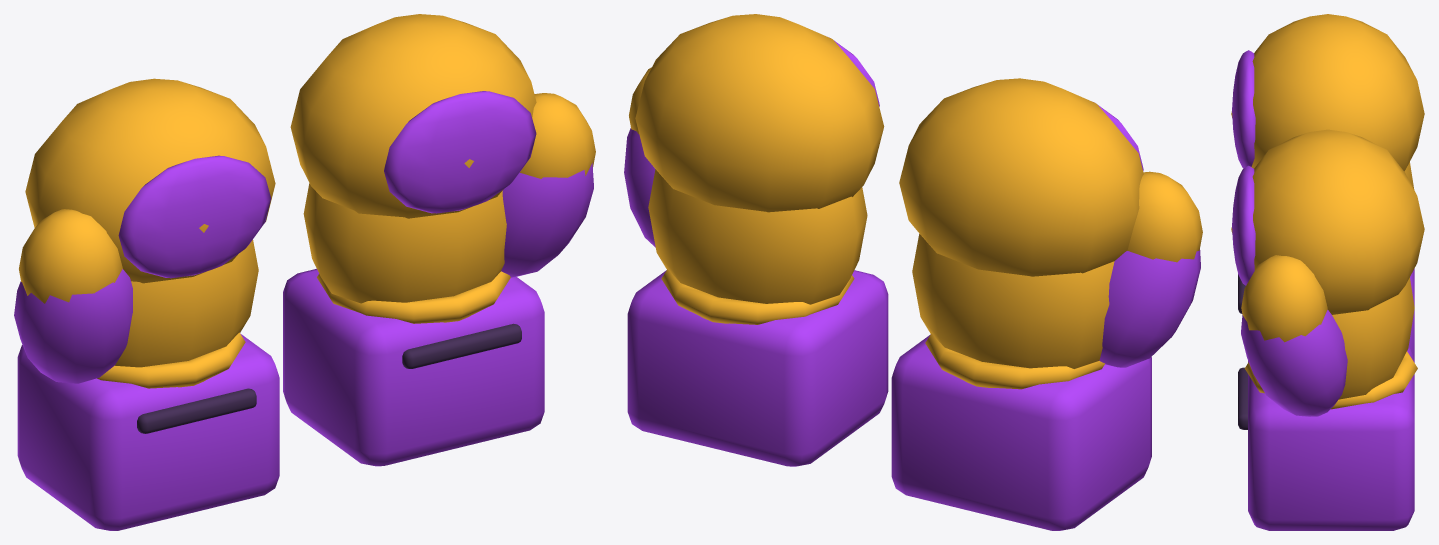
The model's file is Gloves.glb.
3 views of the same model, side by side, from view 1: azimuth 30°, elevation 25°; view 2: azimuth 150°, elevation 25°; view 3: azimuth 270°, elevation 25° (orthographic). The views are drawn at different scales.
Parts seen in each view (by area): view 1: Right_Purple_Cuff, Left_Purple_Cuff, Right_Gold_Knuckles, Left_Gold_Knuckles, Right_Gold_Palm, Left_Purple_StrikePad, Right_Purple_StrikePad, Left_Gold_Palm, Left_Purple_Thumb, Left_Gold_ThumbTip, Right_Purple_Thumb, Right_Gold_ThumbTip (+4 smaller); view 2: Right_Gold_Knuckles, Left_Gold_Knuckles, Right_Purple_Cuff, Left_Purple_Cuff, Right_Gold_Palm, Left_Gold_Palm, Left_Purple_Thumb, Left_Gold_ThumbTip, Right_Gold_Cuff_Rim, Left_Gold_Cuff_Rim, Right_Purple_Thumb; view 3: Right_Gold_Knuckles, Right_Purple_Cuff, Left_Gold_Knuckles, Right_Purple_Thumb, Right_Gold_Palm, Right_Gold_ThumbTip, Left_Purple_StrikePad, Right_Purple_StrikePad, Right_Gold_Cuff_Rim, Right_Dark_Wrist_Seam, Left_Purple_Cuff.
Part boxes in pixels (x1,y1,x2,y2): Right_Purple_Cuff: (283, 268, 544, 466); Left_Purple_Cuff: (17, 333, 279, 530); Right_Gold_Knuckles: (290, 14, 536, 218); Left_Gold_Knuckles: (25, 78, 275, 283); Right_Gold_Palm: (303, 183, 506, 303); Left_Purple_StrikePad: (118, 155, 271, 278); Right_Purple_StrikePad: (384, 91, 536, 213); Left_Gold_Palm: (115, 240, 258, 367); Left_Purple_Thumb: (14, 269, 132, 383); Left_Gold_ThumbTip: (19, 209, 122, 303); Right_Purple_Thumb: (501, 163, 593, 277); Right_Gold_ThumbTip: (520, 93, 595, 178); Right_Gold_Knuckles: (635, 14, 884, 212); Left_Gold_Knuckles: (899, 78, 1143, 276); Right_Purple_Cuff: (627, 270, 888, 466); Left_Purple_Cuff: (891, 334, 1151, 530); Right_Gold_Palm: (648, 169, 867, 304); Left_Gold_Palm: (912, 234, 1114, 368); Left_Purple_Thumb: (1099, 249, 1200, 367); Left_Gold_ThumbTip: (1127, 171, 1202, 262); Right_Gold_Cuff_Rim: (661, 269, 854, 324); Left_Gold_Cuff_Rim: (925, 333, 1104, 389); Right_Purple_Thumb: (624, 128, 655, 247); Right_Gold_Knuckles: (1231, 129, 1424, 314); Right_Purple_Cuff: (1248, 346, 1414, 530); Left_Gold_Knuckles: (1231, 14, 1424, 171); Right_Purple_Thumb: (1241, 310, 1347, 416); Right_Gold_Palm: (1332, 277, 1414, 399); Right_Gold_ThumbTip: (1241, 255, 1327, 342); Left_Purple_StrikePad: (1232, 50, 1255, 168); Right_Purple_StrikePad: (1232, 165, 1255, 285); Right_Gold_Cuff_Rim: (1244, 351, 1417, 409); Right_Dark_Wrist_Seam: (1238, 367, 1247, 429); Left_Purple_Cuff: (1408, 268, 1414, 358).
Size of the model in its own units: 0.8744 by 0.59 by 0.29.
